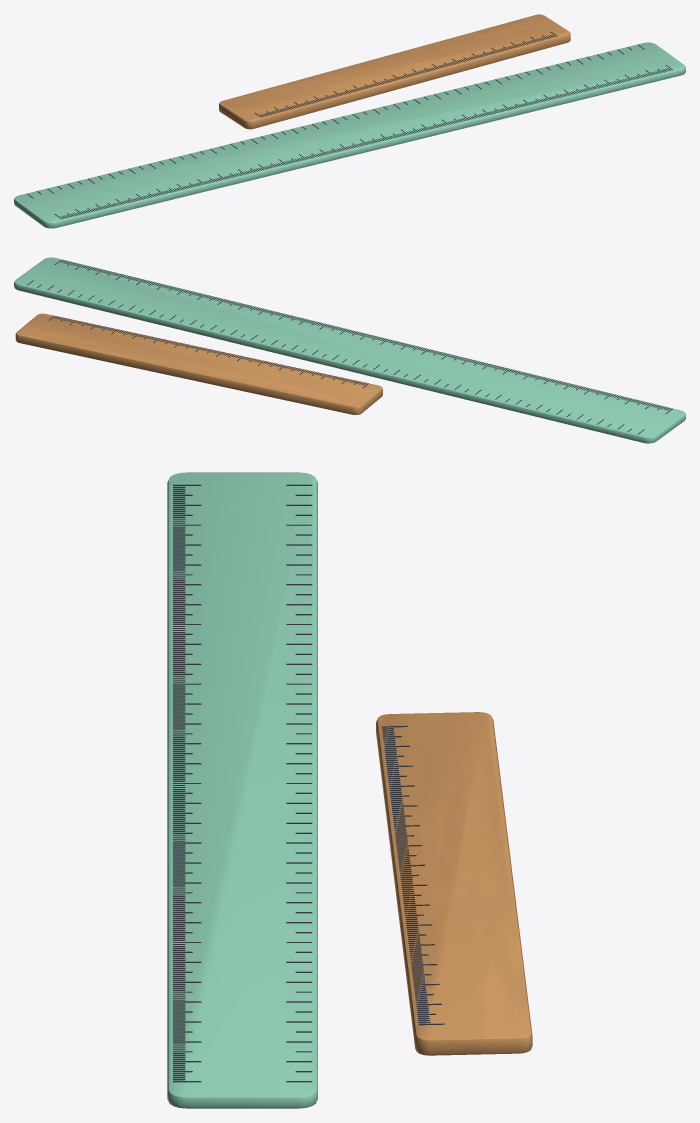
File: ruler.glb
3 renders of one model, top to bottom at view 1: azimuth 30°, elevation 25°; view 2: azimuth 150°, elevation 25°; view 3: azimuth 270°, elevation 25°, orthographic. The views are drawn at different scales.
Parts seen in each view (by area): view 1: ruler_body, ruler_scale_ticks; view 2: ruler_body, ruler_scale_ticks; view 3: ruler_body, ruler_scale_ticks.
Part boxes in pixels (box(x1,y1,x2,y2)): ruler_body: box(14, 14, 685, 228); ruler_scale_ticks: box(27, 31, 672, 219); ruler_body: box(14, 257, 685, 443); ruler_scale_ticks: box(27, 259, 672, 434); ruler_body: box(167, 472, 532, 1108); ruler_scale_ticks: box(173, 484, 444, 1082).
Bounding box in the file's own units: 0.315 × 0.00415 × 0.0776.
2 materials, 1 textured.
